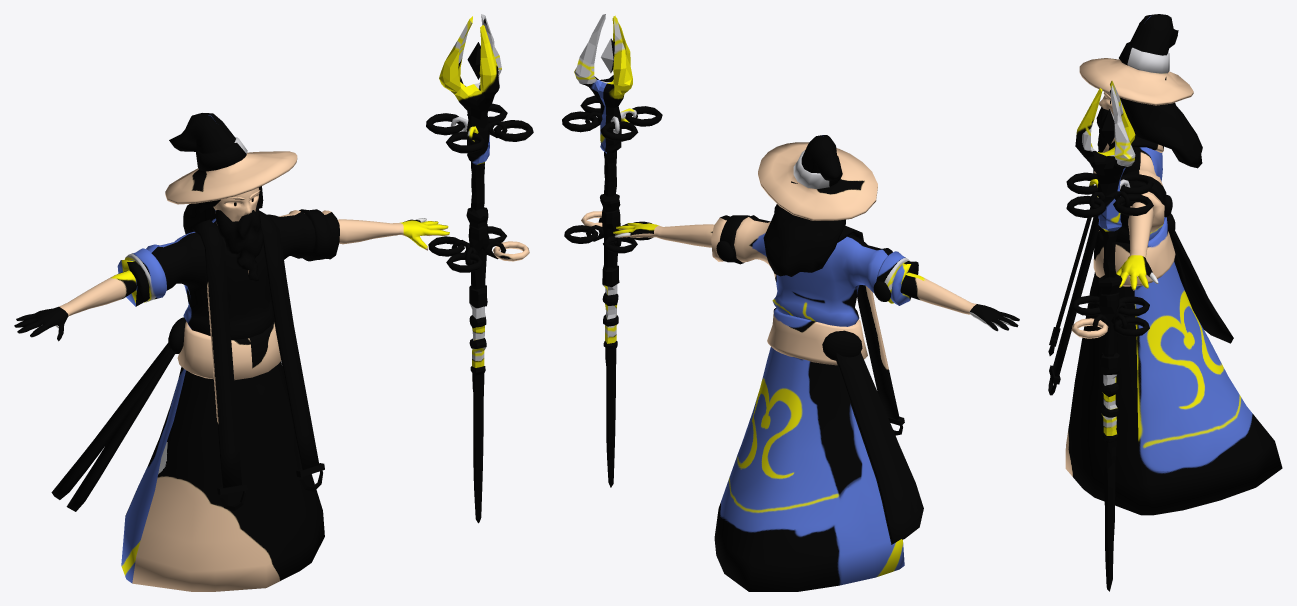
File: maj fbx.fbx
3 views of the same model, side by side, from view 1: azimuth 30°, elevation 25°; view 2: azimuth 150°, elevation 25°; view 3: azimuth 270°, elevation 25° (orthographic). The views are drawn at different scales.
Parts seen in each view (by area): view 1: Box001, Plane001, Object001; view 2: Box001, Plane001, Object001; view 3: Box001, Plane001, Object001, Object002, Hedra001.
Boxes of the visible parts, bbox=[...] form: Box001: bbox=[14, 113, 449, 591]; Plane001: bbox=[439, 14, 507, 523]; Object001: bbox=[426, 103, 529, 272]; Box001: bbox=[613, 135, 1019, 591]; Plane001: bbox=[574, 14, 637, 487]; Object001: bbox=[562, 106, 662, 253]; Box001: bbox=[1048, 14, 1282, 515]; Plane001: bbox=[1075, 81, 1135, 591]; Object001: bbox=[1066, 172, 1153, 338]; Object002: bbox=[1066, 195, 1106, 217]; Hedra001: bbox=[1101, 108, 1114, 146].
Size of the model in its own units: 185 by 183 by 76.32.
